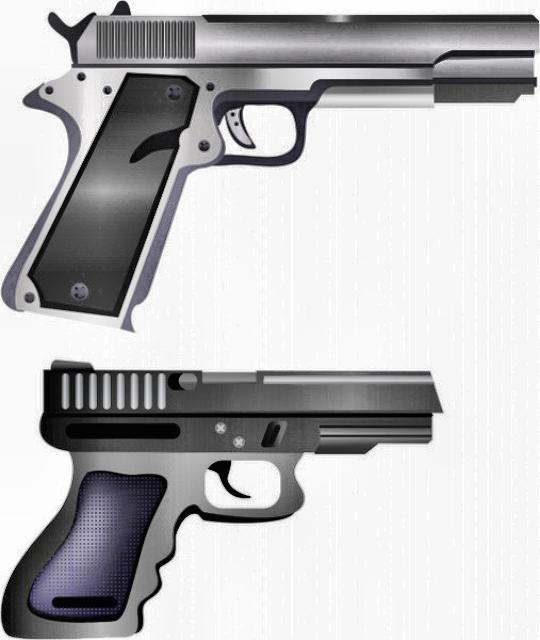pistol: (3, 5, 539, 323), (1, 360, 437, 638)
